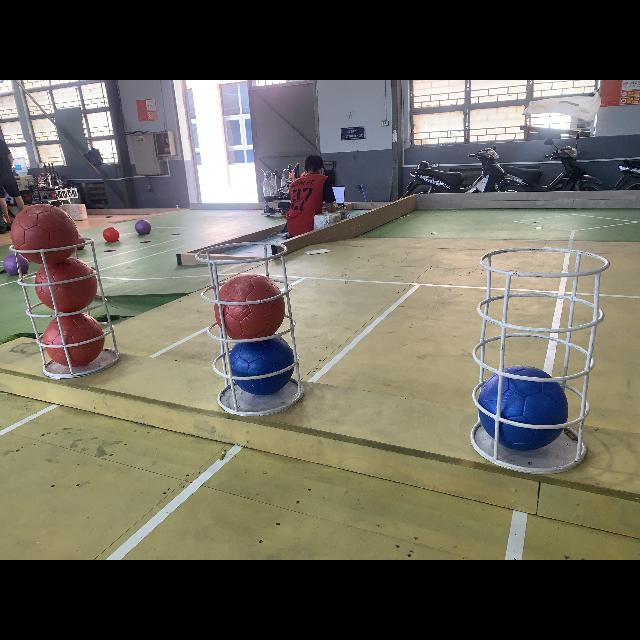B: (479, 366, 569, 452), (229, 337, 293, 393)
R: (213, 274, 285, 336), (11, 204, 79, 264), (34, 258, 98, 312), (43, 314, 105, 368)
